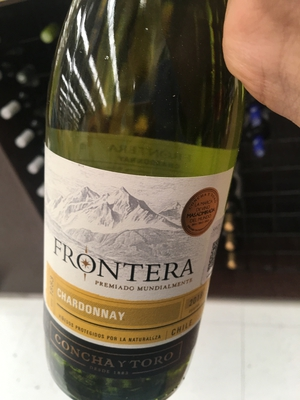frontera chardonnay: (26, 5, 248, 382)
